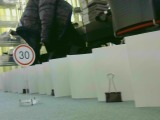speed_30: (12, 44, 35, 66)
